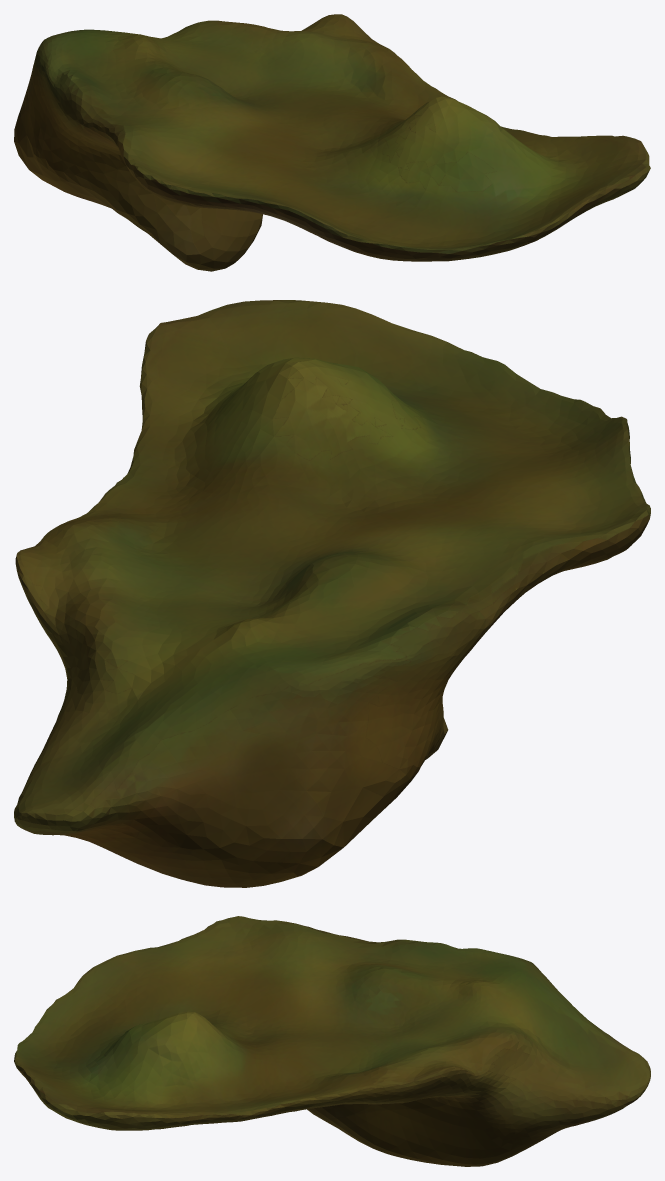
File: bigIsland1.fbx
3 views of the same model, one above another, from view 1: azimuth 30°, elevation 25°; view 2: azimuth 150°, elevation 25°; view 3: azimuth 270°, elevation 25° (orthographic). The views are drawn at different scales.
Visible parts, largest first — view 1: BigIsland1; view 2: BigIsland1; view 3: BigIsland1.
Boxes of the visible parts, box(x1,y1,x2,y2) form: BigIsland1: box(14, 14, 650, 271); BigIsland1: box(14, 300, 650, 887); BigIsland1: box(14, 916, 650, 1166).
Size of the model in its own units: 33847 by 16518 by 50540.
